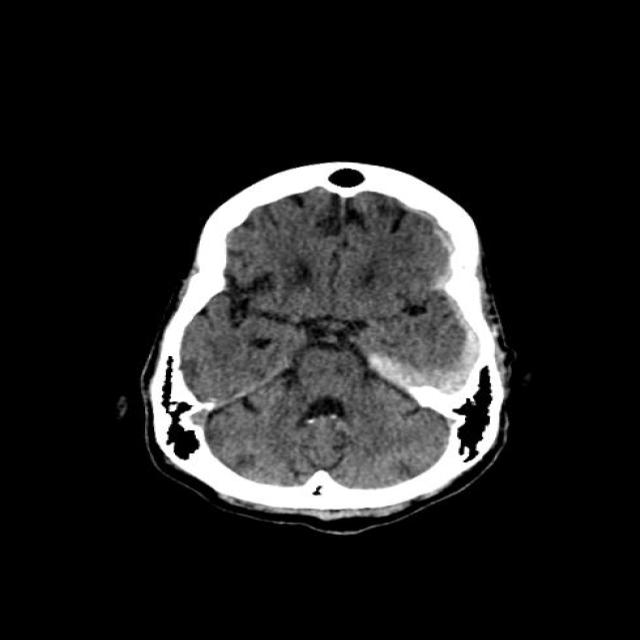Subdural: (384, 205, 516, 413)
